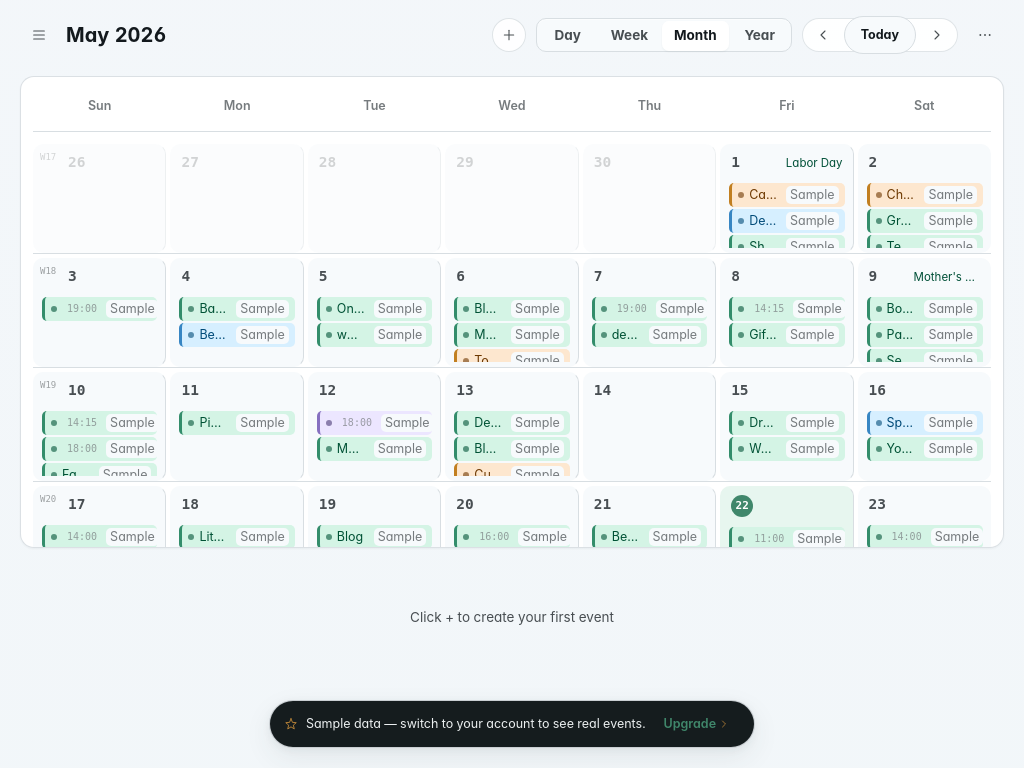
Test: CalendarModule nav › AC-NAV-1: > → June 2026
Click the button with test id "cal-next-month" at (937, 35), box [920,18,954,52]
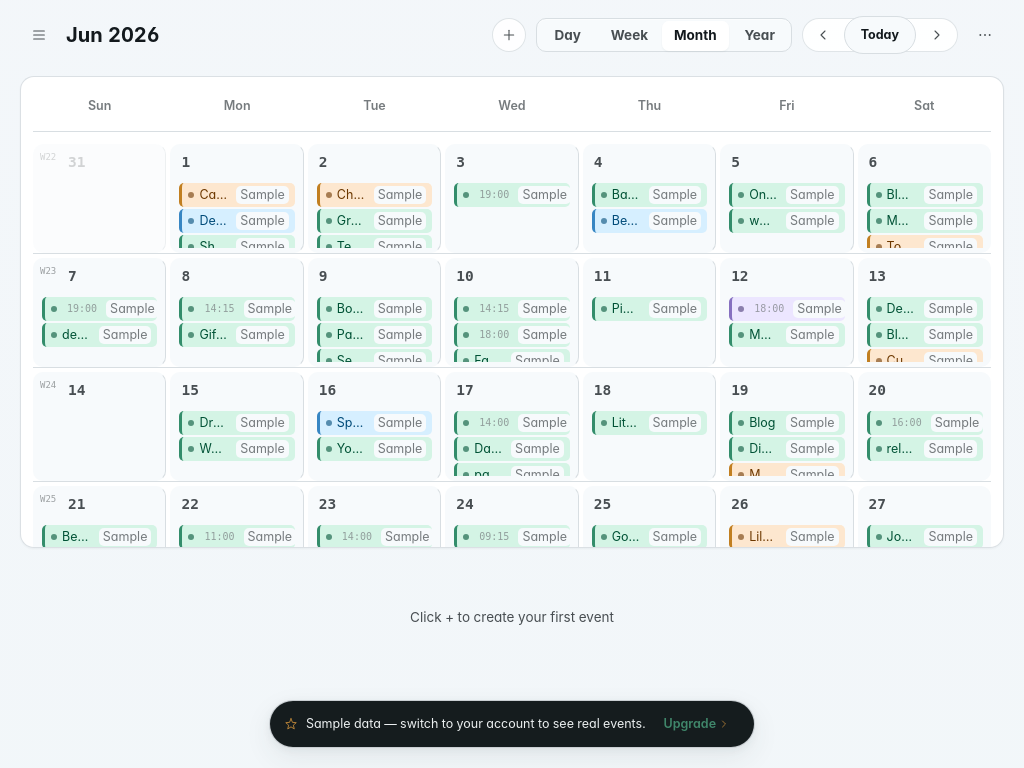
Result: the heading reads "Jun 2026" at [66,22,160,46]
